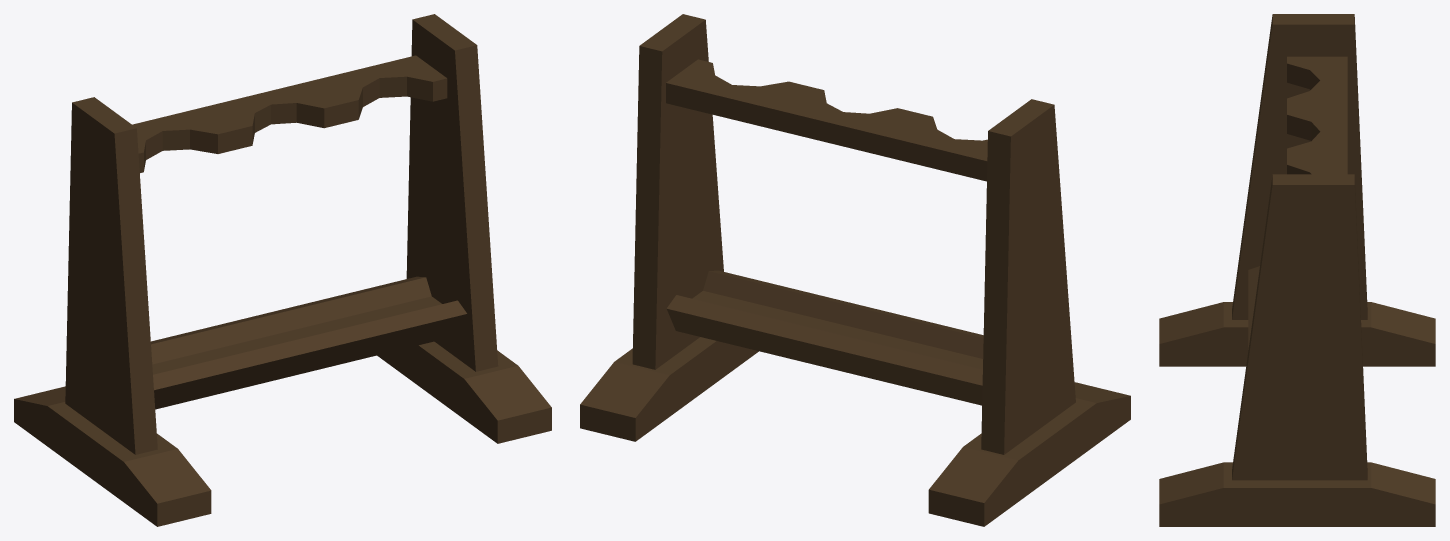
The model's file is WeaponRack_Small.glb.
The picture shows the model from 3 angles, left to right: view 1: azimuth 30°, elevation 25°; view 2: azimuth 150°, elevation 25°; view 3: azimuth 270°, elevation 25°; orthographic projection. The views are drawn at different scales.
Parts seen in each view (by area): view 1: WeaponRack_Small.001; view 2: WeaponRack_Small.001; view 3: WeaponRack_Small.001.
Boxes of the visible parts, x1,y1,x2,y2 form: WeaponRack_Small.001: (14, 14, 551, 526); WeaponRack_Small.001: (580, 14, 1130, 526); WeaponRack_Small.001: (1159, 14, 1435, 526).
Size of the model in its own units: 1.16 by 0.9728 by 0.7286.
1 material, 1 textured.
